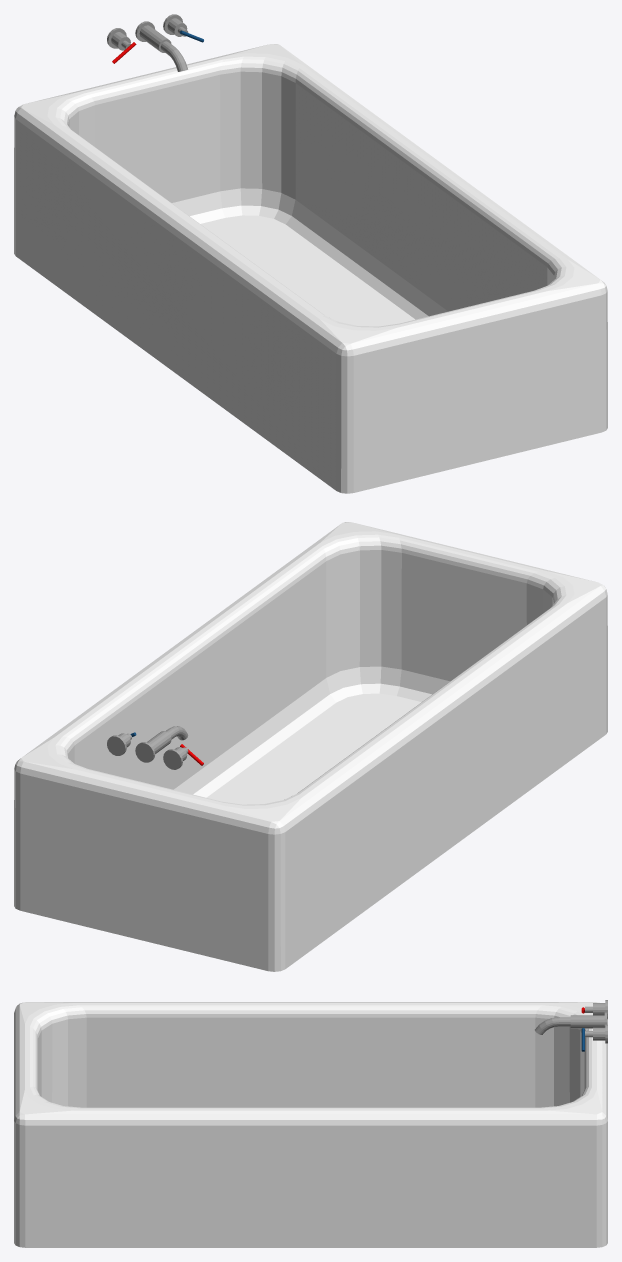
Rendered from Prop_Bath_02.fbx.
3 renders of one model, top to bottom at view 1: azimuth 30°, elevation 25°; view 2: azimuth 150°, elevation 25°; view 3: azimuth 270°, elevation 25°, orthographic. The views are drawn at different scales.
Parts seen in each view (by area): view 1: Prop_Bath_02; view 2: Prop_Bath_02; view 3: Prop_Bath_02.
Part boxes in pixels (x1,y1,x2,y2): Prop_Bath_02: (14,14,607,493); Prop_Bath_02: (14,522,607,971); Prop_Bath_02: (14,1000,607,1247).
Bounding box in the file's own units: 93.46 × 68.21 × 200.
